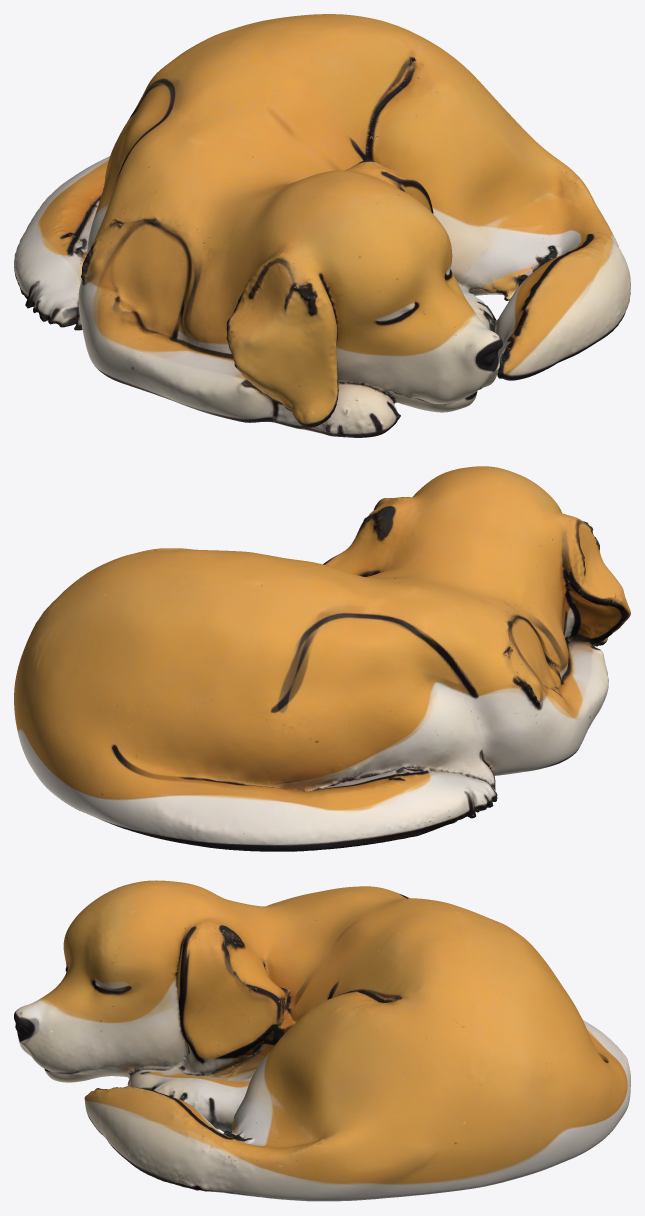
File: Meshy_AI_Dog_Sleep_0617131455_texture.glb
3 renders of one model, top to bottom at view 1: azimuth 30°, elevation 25°; view 2: azimuth 150°, elevation 25°; view 3: azimuth 270°, elevation 25°, orthographic. The views are drawn at different scales.
Size of the model in its own units: 1.66 by 0.6546 by 2.
1 material, 1 textured.
